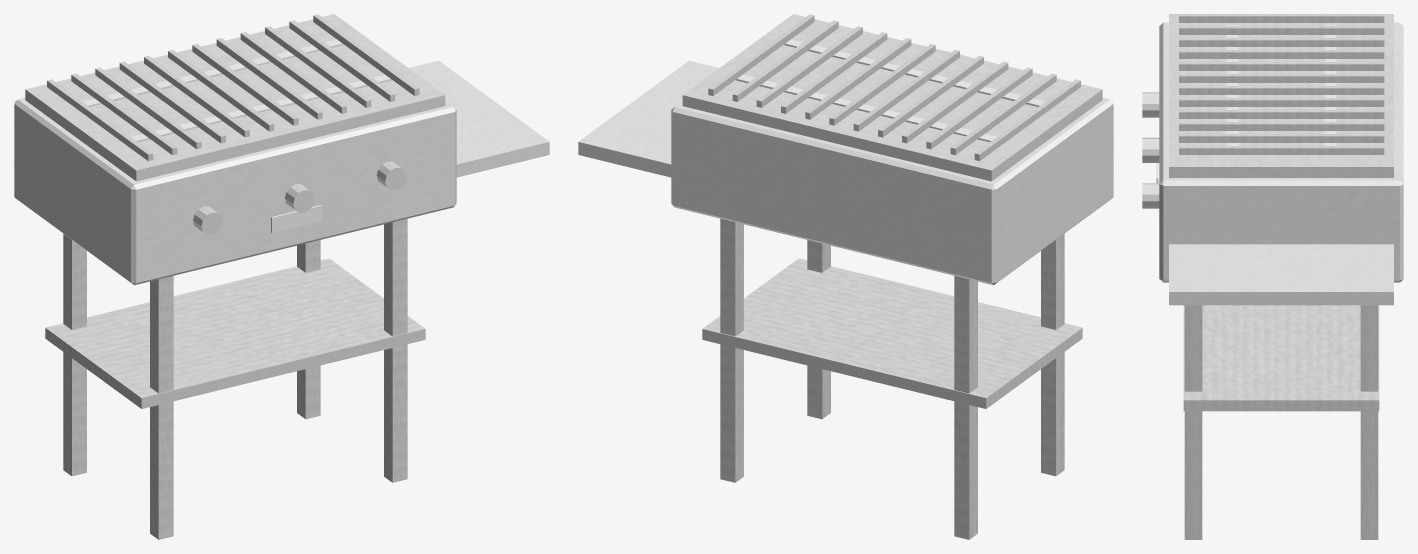
The model's file is deckelectricgrill.obj.
3 renders of one model, left to right at view 1: azimuth 30°, elevation 25°; view 2: azimuth 150°, elevation 25°; view 3: azimuth 270°, elevation 25°, orthographic.
Parts seen in each view (by area): view 1: Trim, Case, Black, Heat, Display; view 2: Trim, Case, Black, Heat; view 3: Trim, Case, Black, Heat.
Boxes of the visible parts, x1,y1,x2,y2 form: Trim: [45, 14, 425, 539]; Case: [14, 60, 549, 285]; Black: [25, 14, 445, 235]; Heat: [82, 39, 391, 142]; Display: [271, 205, 322, 232]; Trim: [702, 14, 1082, 539]; Case: [578, 60, 1113, 285]; Black: [682, 14, 1102, 181]; Heat: [736, 39, 1045, 142]; Trim: [1179, 14, 1384, 539]; Case: [1159, 22, 1403, 305]; Black: [1142, 14, 1393, 208]; Heat: [1226, 24, 1336, 145].
Size of the model in its own units: 1.01 by 0.894 by 0.535.
